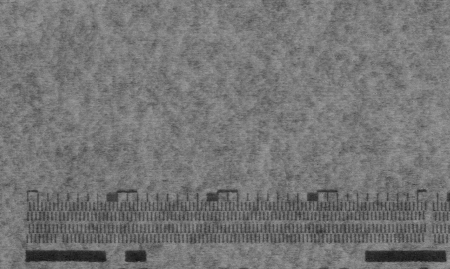Broken hole: (53, 233, 66, 244)
